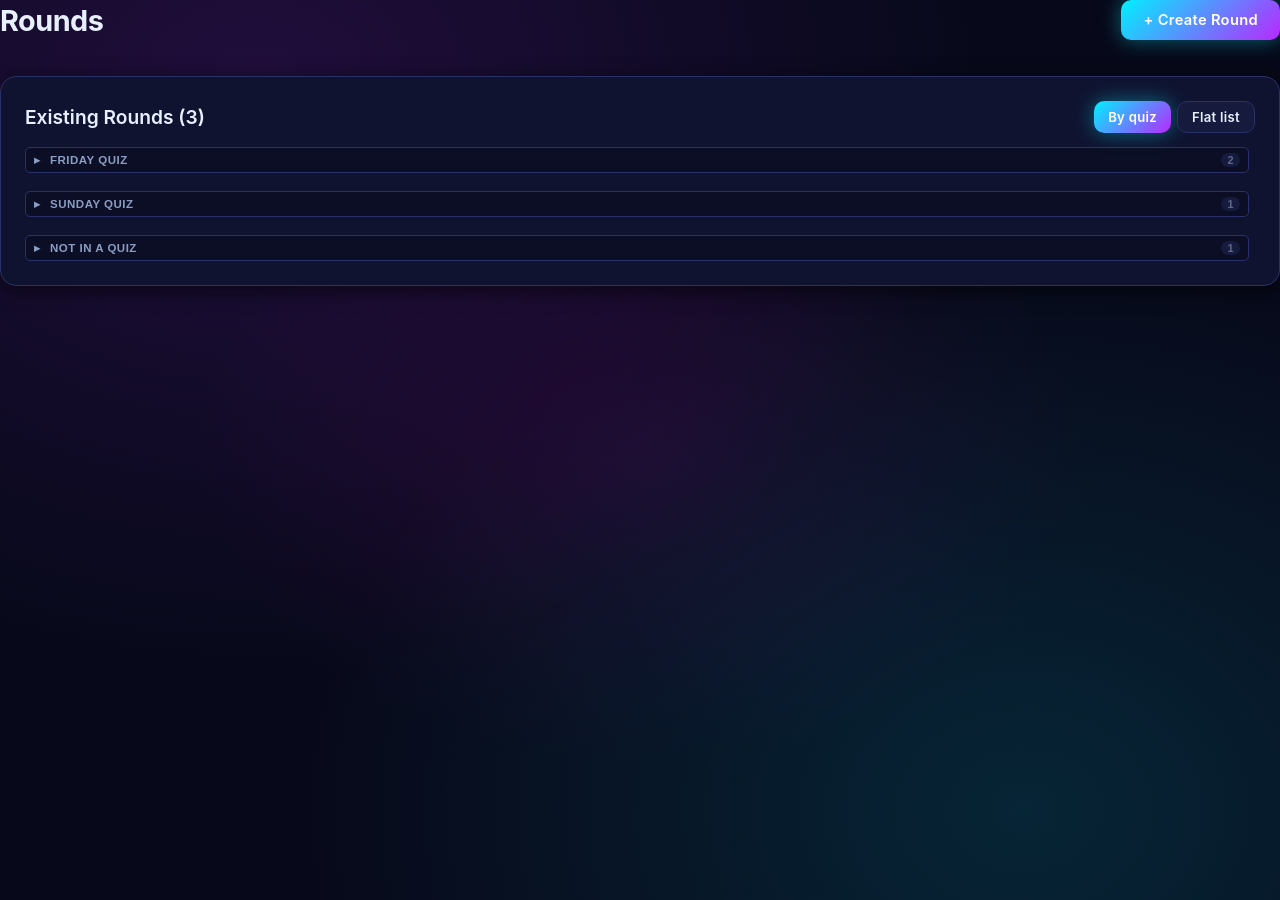
Test: RoundBuilder — rounds grouped by quiz › starts with every quiz group collapsed and expands on click
Expected: the text "Alpha Round" is not shown
Expected: the text "Shared Round" is not shown
What coordinates should you click on to do the following:
click the button "▸ Friday Quiz 2"
I would click on:
 (89, 160)
Its box is [25,147,1249,173].
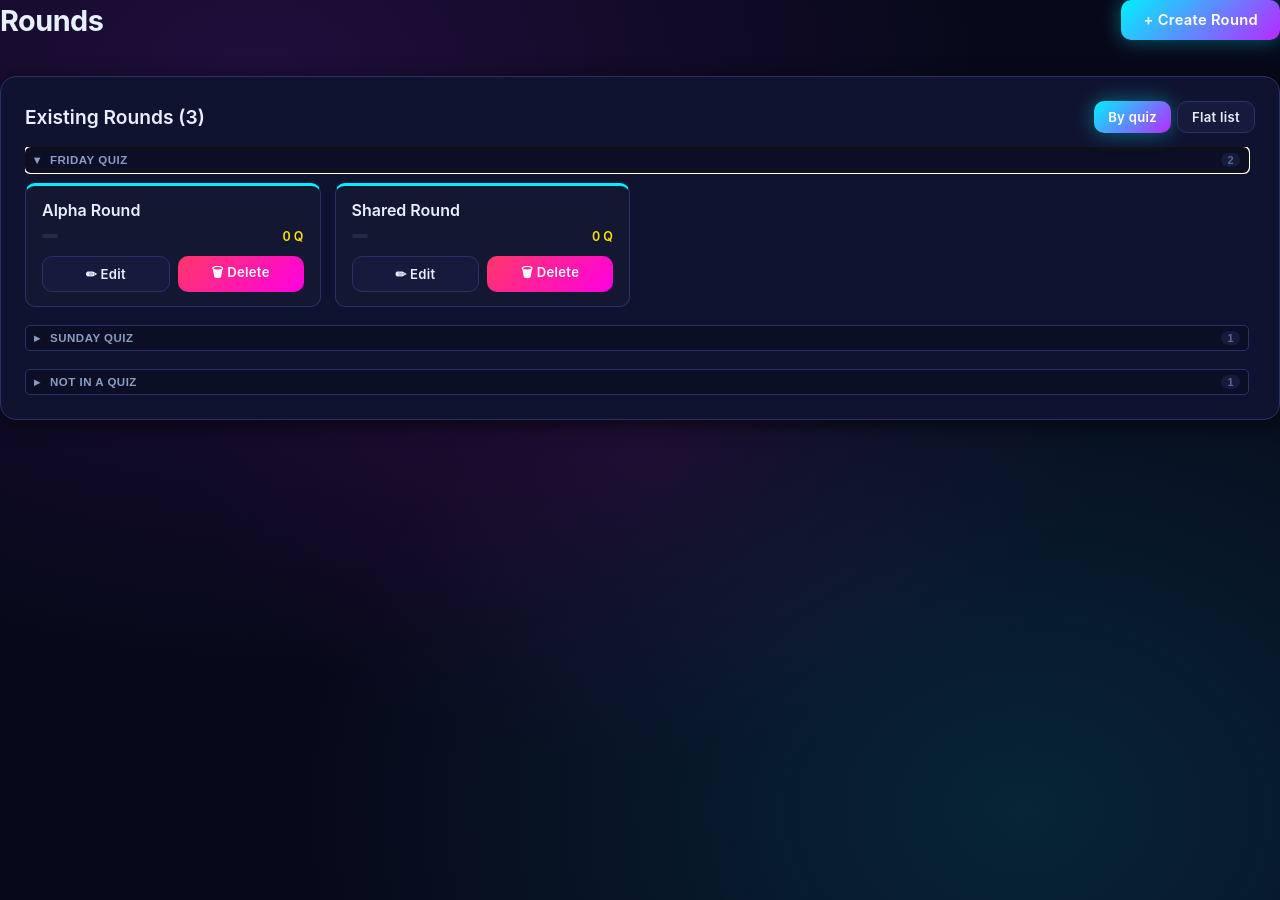
Result: the heading "Alpha Round" is shown at [42,200,140,220]
Result: the heading "Shared Round" is shown at [352,200,460,220]
What coordinates should you click on to do the following:
click the button "▾ Friday Quiz 2"
I would click on:
 (89, 160)
Its box is [25,147,1249,173].
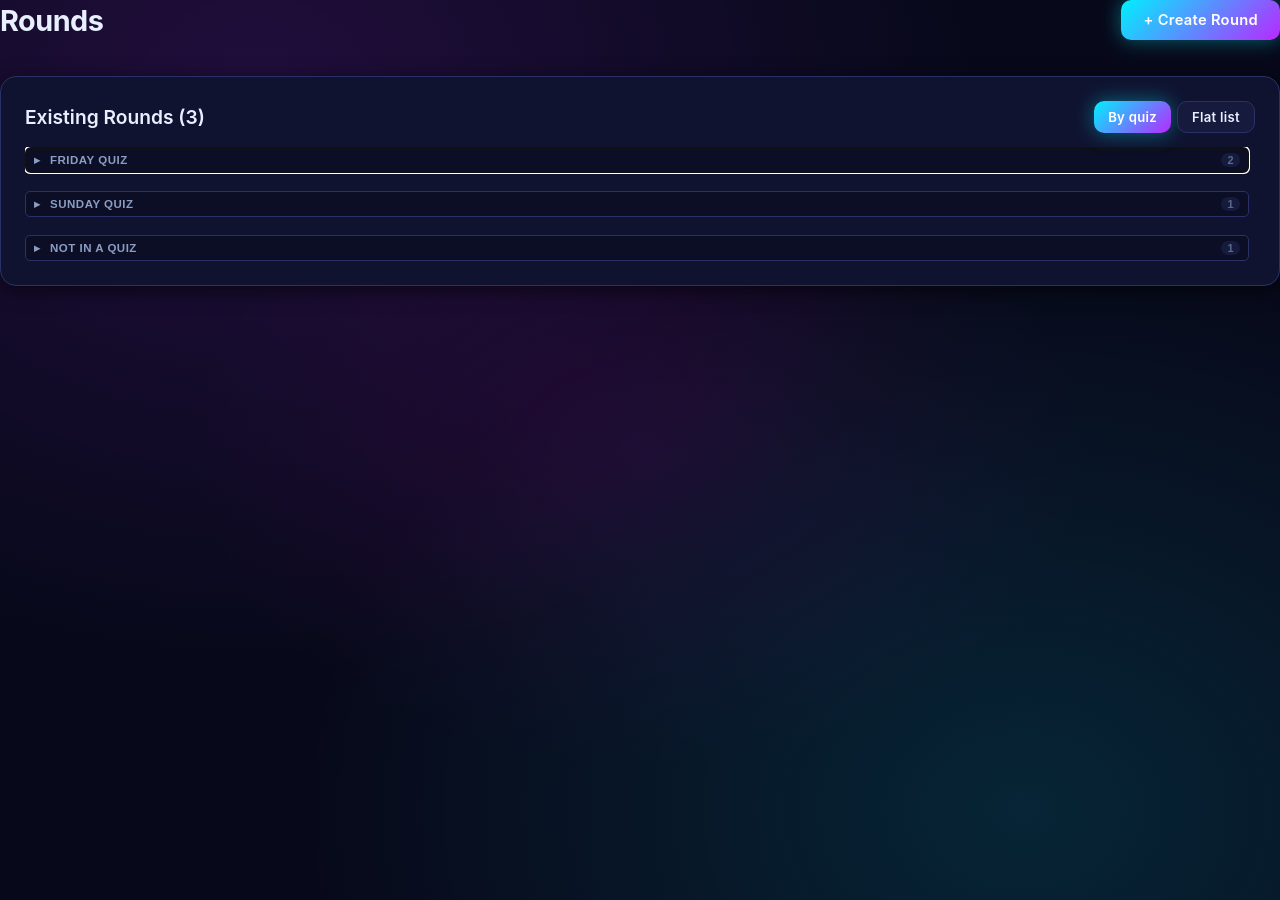
Result: the heading "Alpha Round" is gone
